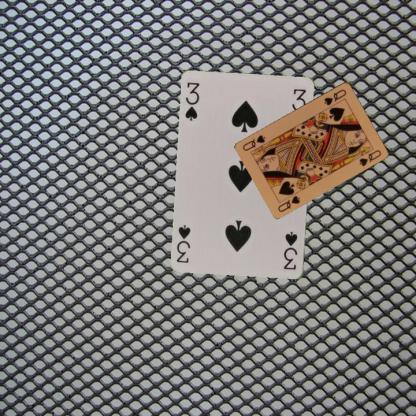3s: (183, 80, 202, 122), (281, 228, 299, 272)
Qs: (275, 192, 302, 214), (321, 86, 348, 106)
